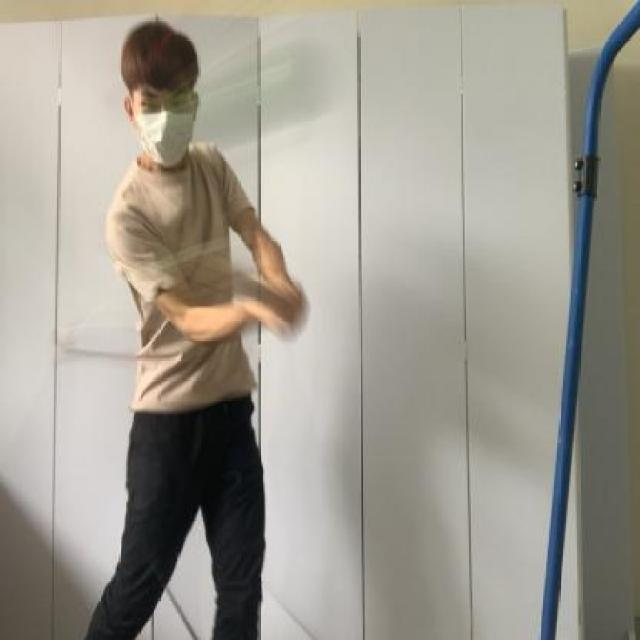baseball: (152, 29, 342, 148)
